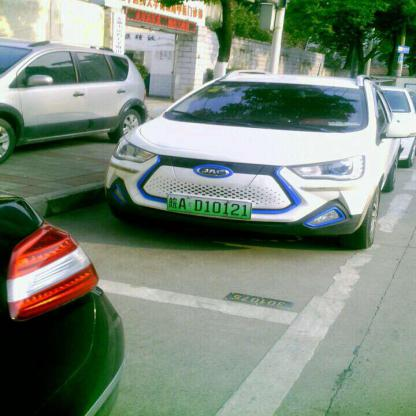lp: (167, 193, 250, 218)
